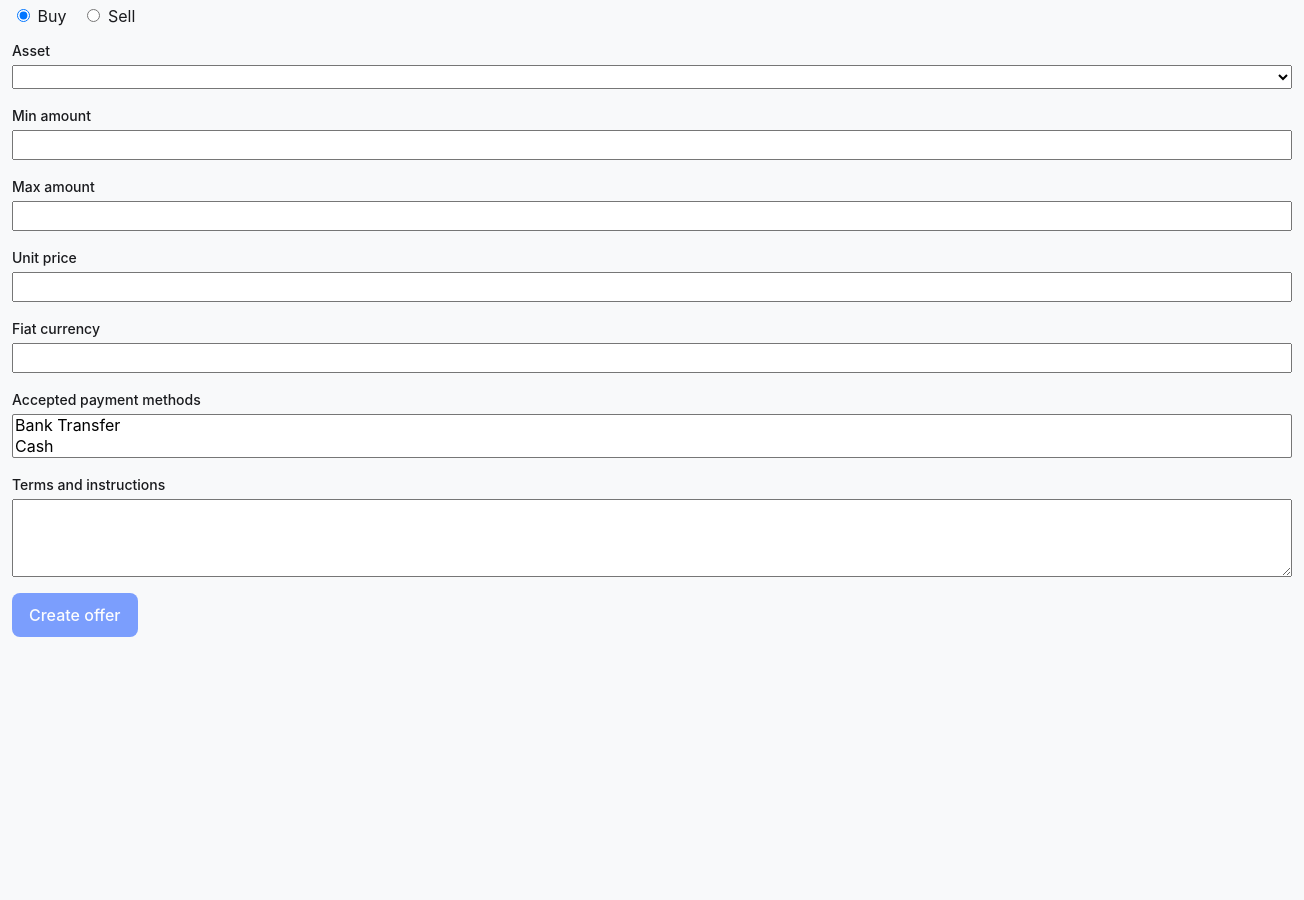
Test: CreateOfferForm › sell type shows direccionFiat field and submit is disabled until it is filled
Click the radio button labelled "Sell". click: point(94, 16)
box: [87,9,100,22]
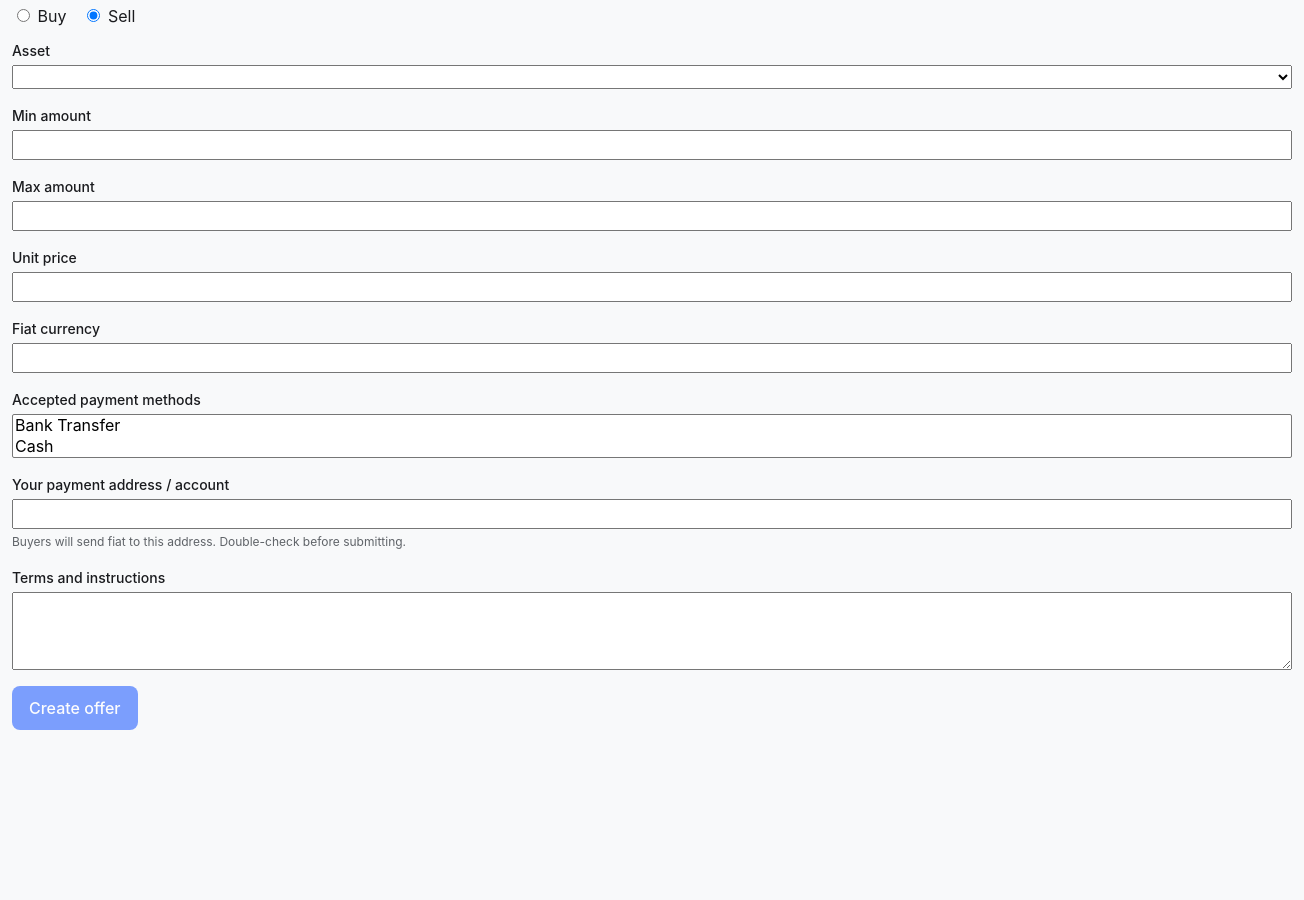
Now the field labelled "Your payment address / account" is shown, box [12,499,1292,529]
Select "BTC — Bitcoin" in the dropdown labelled "Asset". click: point(652, 77)
box: [12,65,1292,89]
Type "0.01" into the field labelled "Min amount". click: point(652, 145)
box: [12,130,1292,160]
Type "1" into the field labelled "Max amount". click: point(652, 216)
box: [12,201,1292,231]
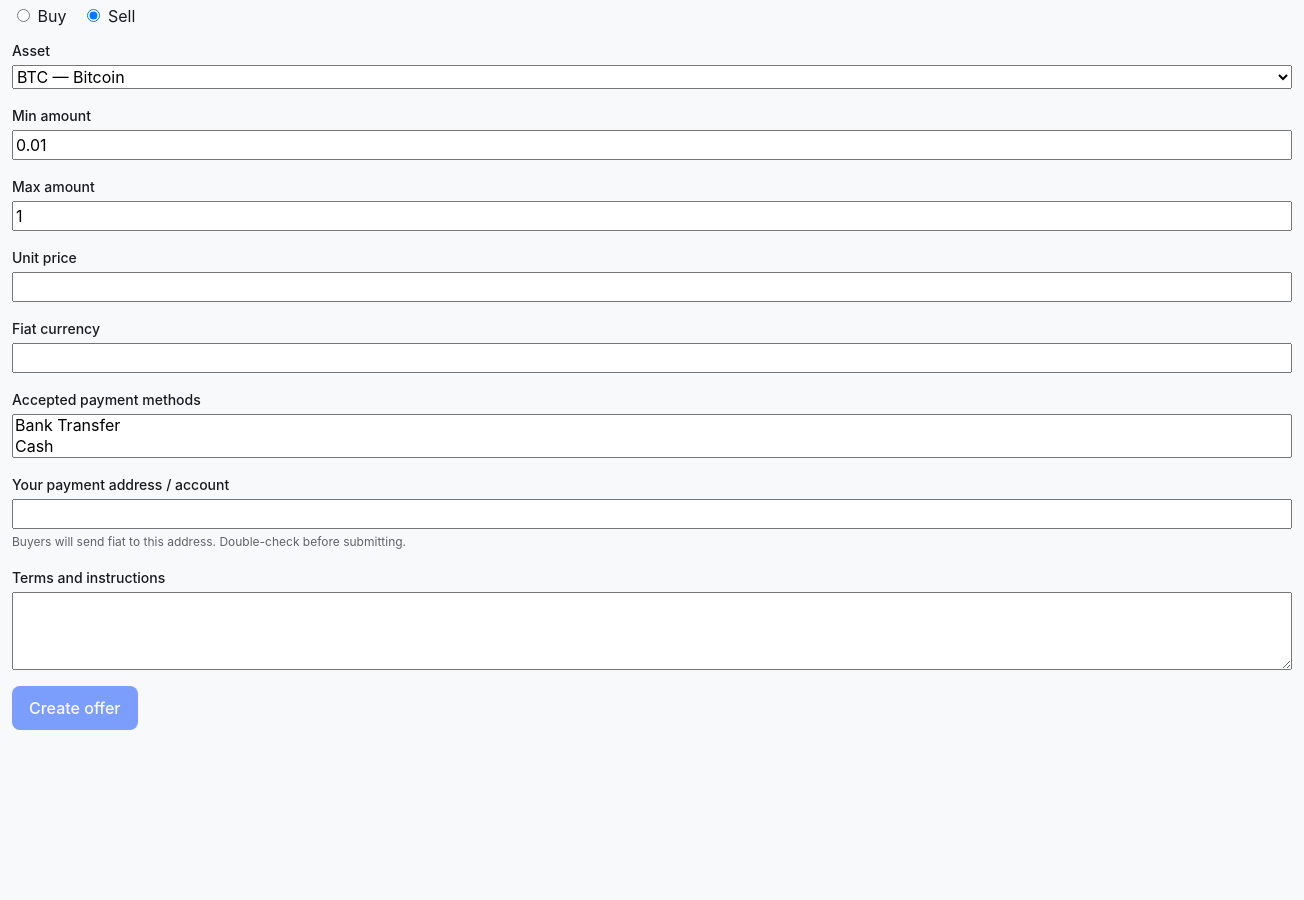
Type "65000" into the field labelled "Unit price". click: point(652, 287)
box: [12,272,1292,302]
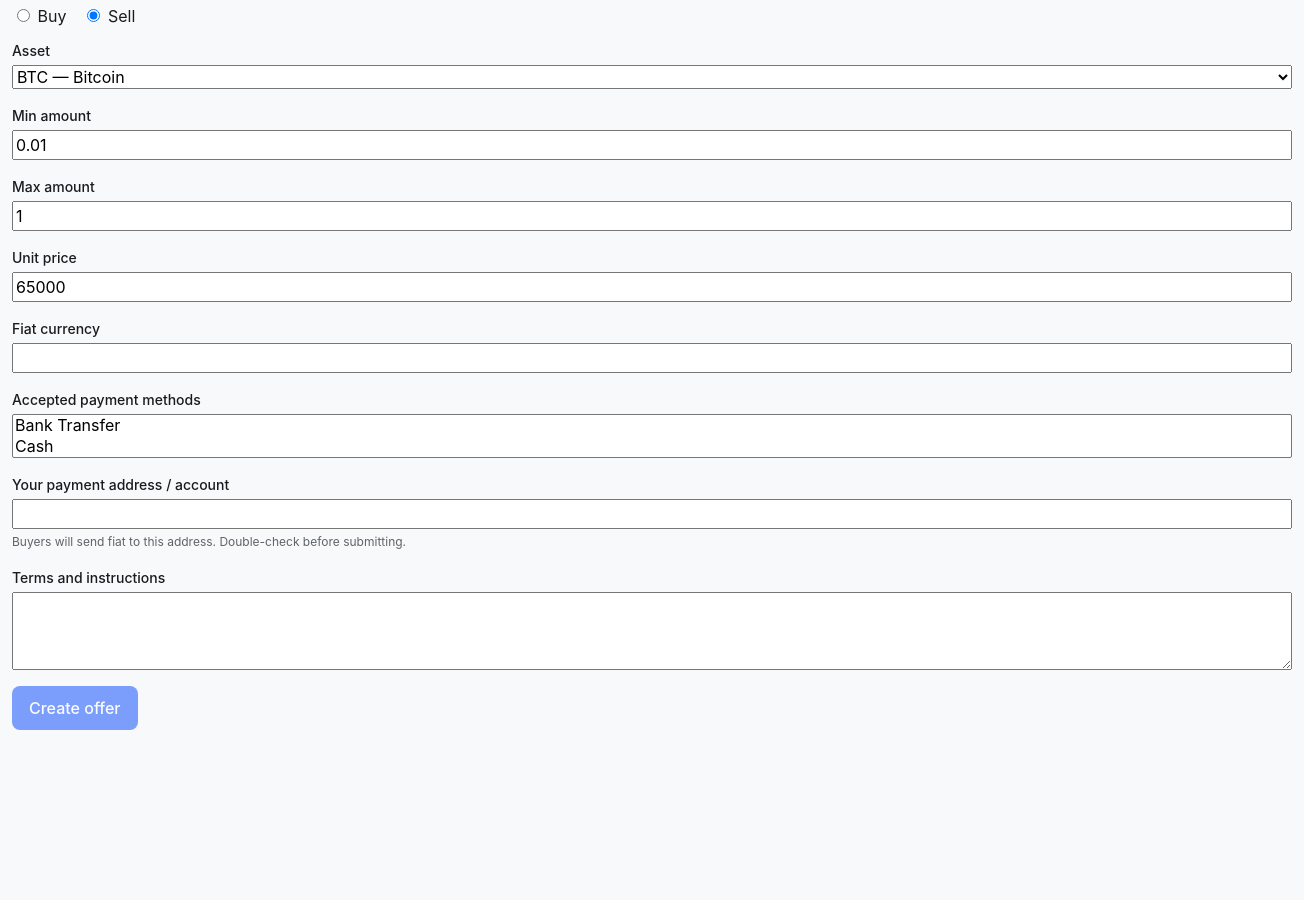
Type "USD" into the field labelled "Fiat currency". click: point(652, 358)
box: [12,343,1292,373]
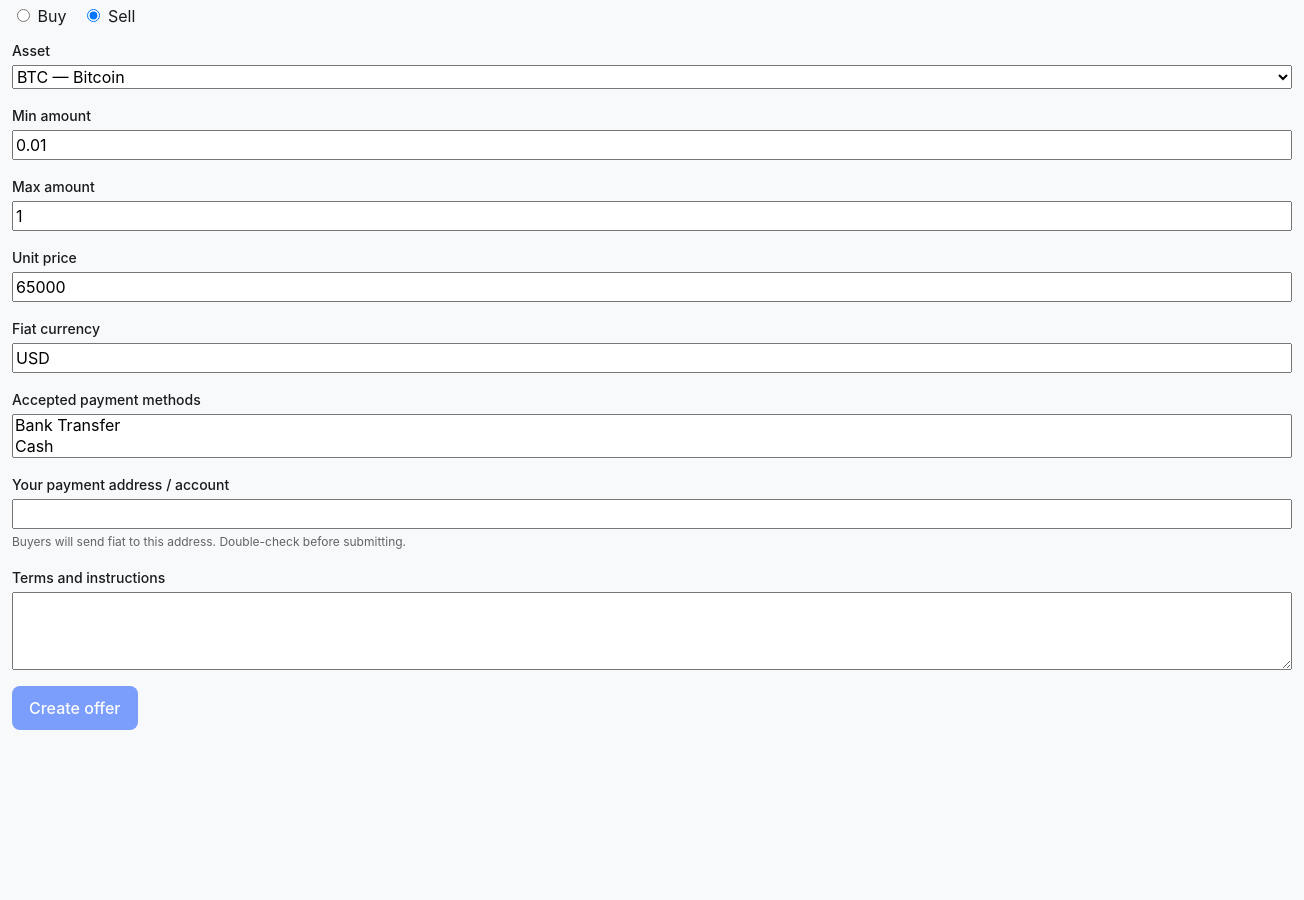
Select "Bank Transfer" in the dropdown labelled "Accepted payment methods". click: point(652, 436)
box: [12,414,1292,458]
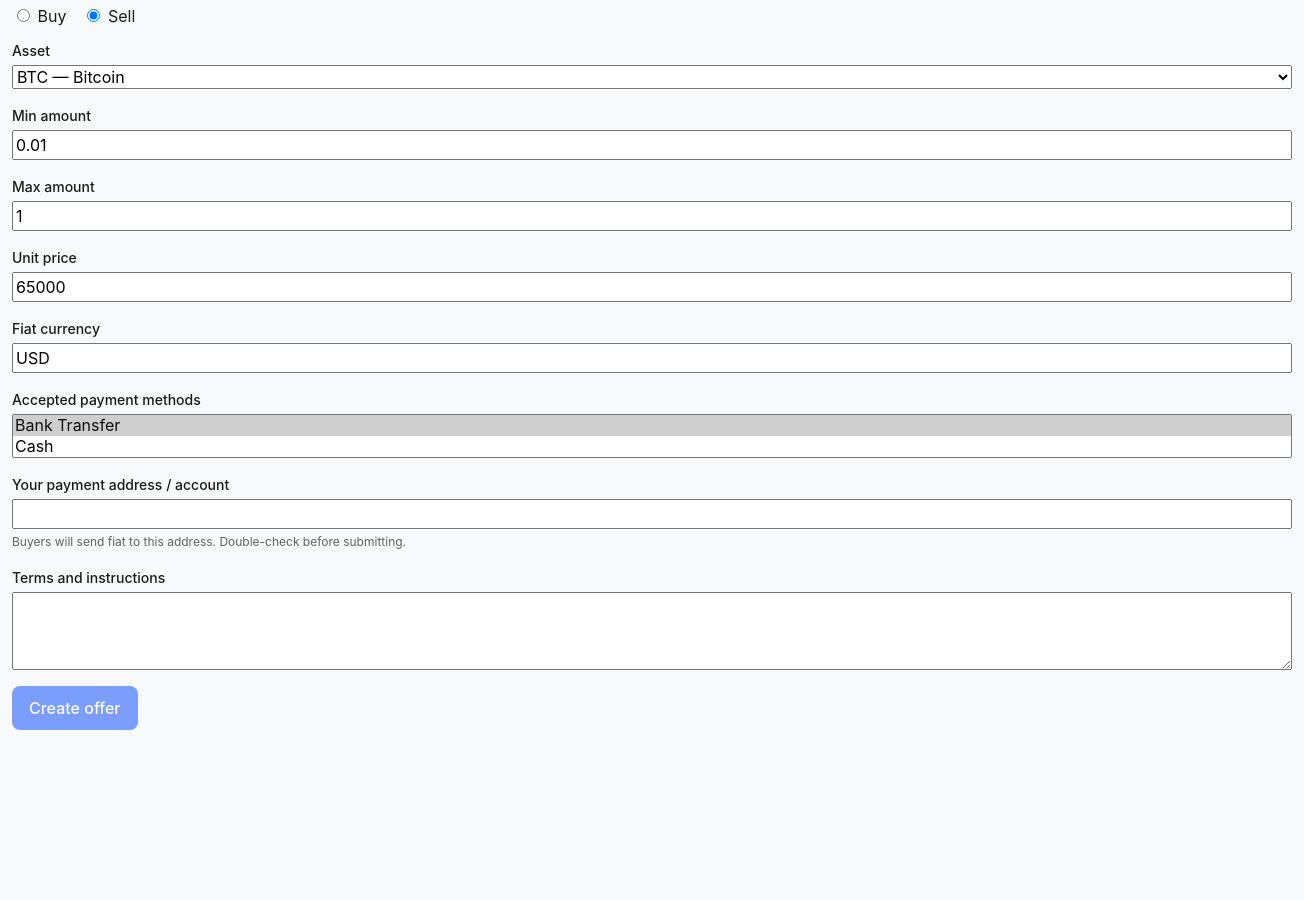
Expected: the button "Create offer" is disabled, [12,686,138,730]
Type "my-bank-account-123" into the field labelled "Your payment address / account". click: point(652, 514)
box: [12,499,1292,529]
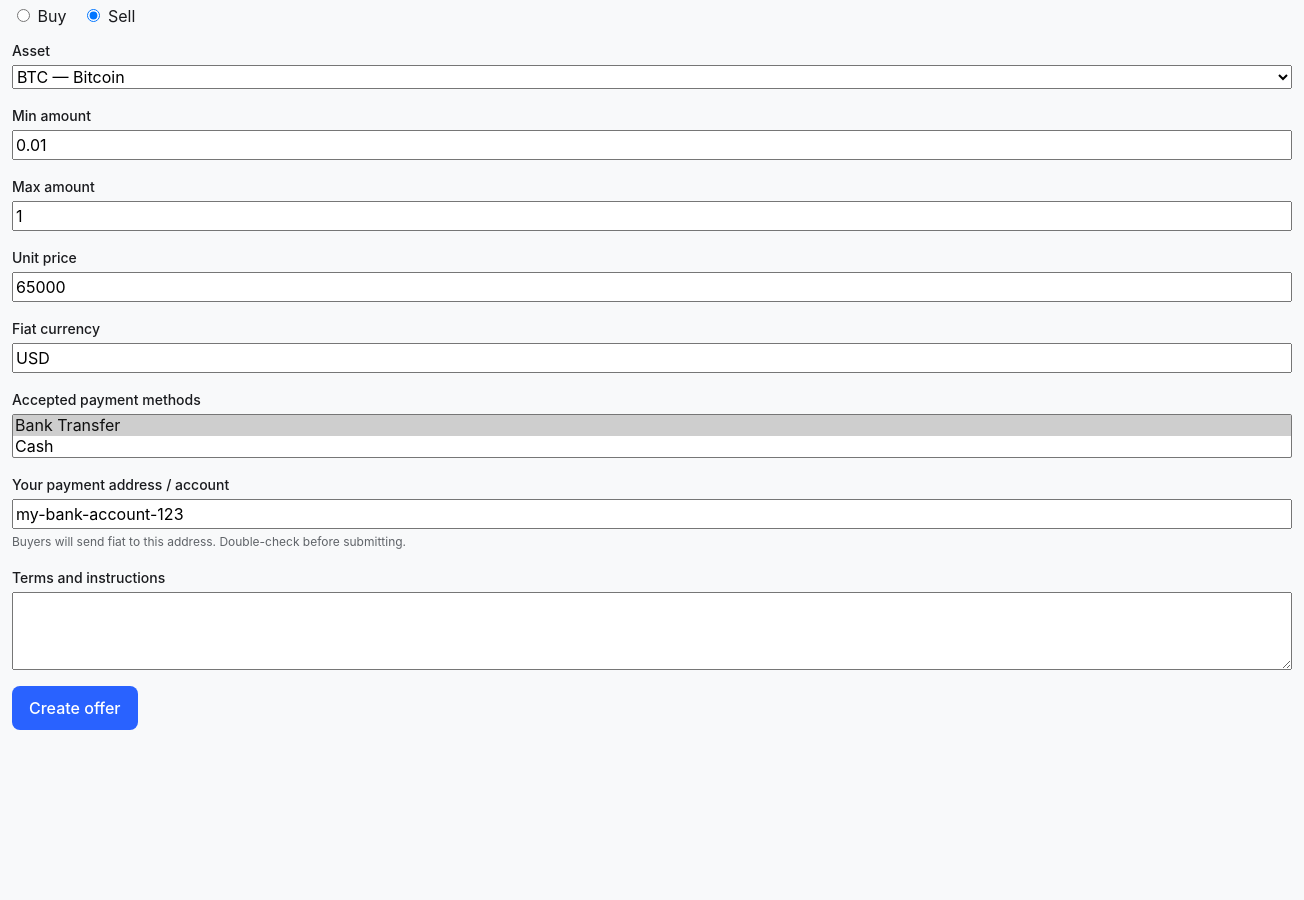
Now the button "Create offer" is enabled, box [12,686,138,730]
